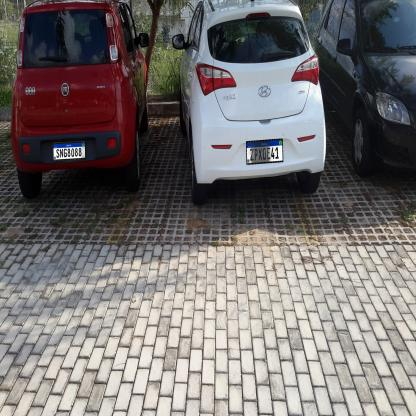PlacaM: (246, 138, 283, 164), (52, 142, 86, 160)
